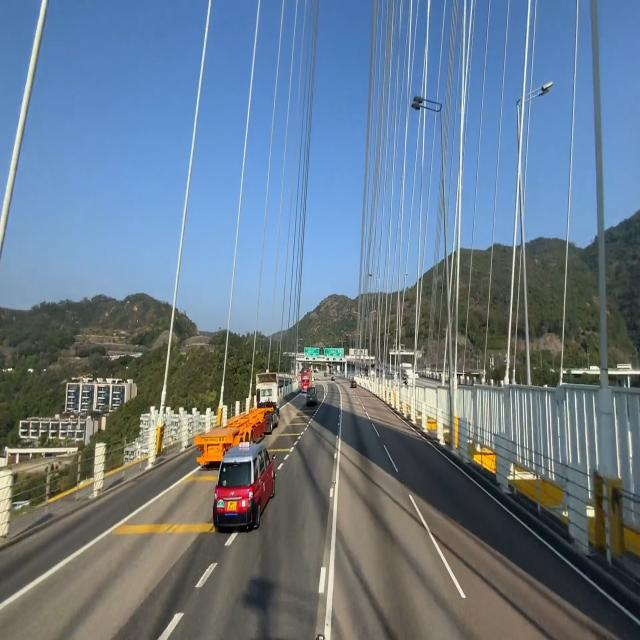Car: (195, 370, 283, 468), (212, 436, 274, 541)
